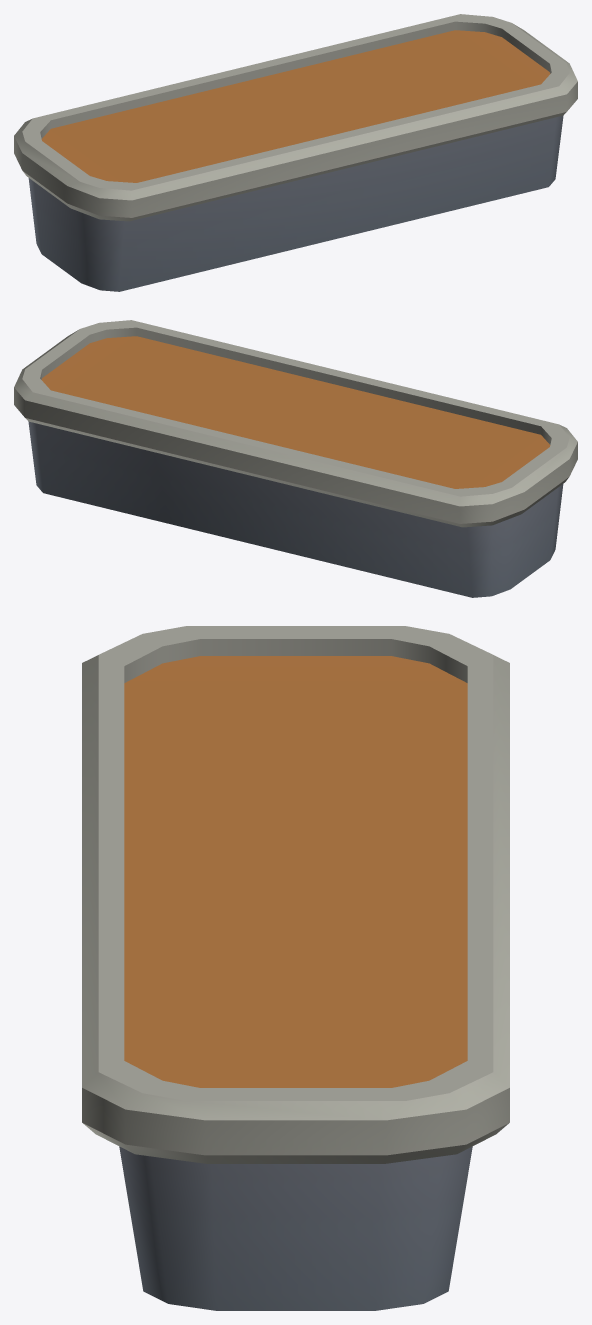
The model's file is BushPot_1_A.glb.
3 renders of one model, top to bottom at view 1: azimuth 30°, elevation 25°; view 2: azimuth 150°, elevation 25°; view 3: azimuth 270°, elevation 25°, orthographic. The views are drawn at different scales.
Parts seen in each view (by area): view 1: BushPot_1_A; view 2: BushPot_1_A; view 3: BushPot_1_A.
Boxes of the visible parts, x1=… form: BushPot_1_A: x1=14, y1=14, x2=577, y2=291; BushPot_1_A: x1=14, y1=320, x2=577, y2=597; BushPot_1_A: x1=82, y1=626, x2=509, y2=1310.
Size of the model in its own units: 2.2 by 0.4575 by 0.812.
Materials: 1 (1 with a texture image).
